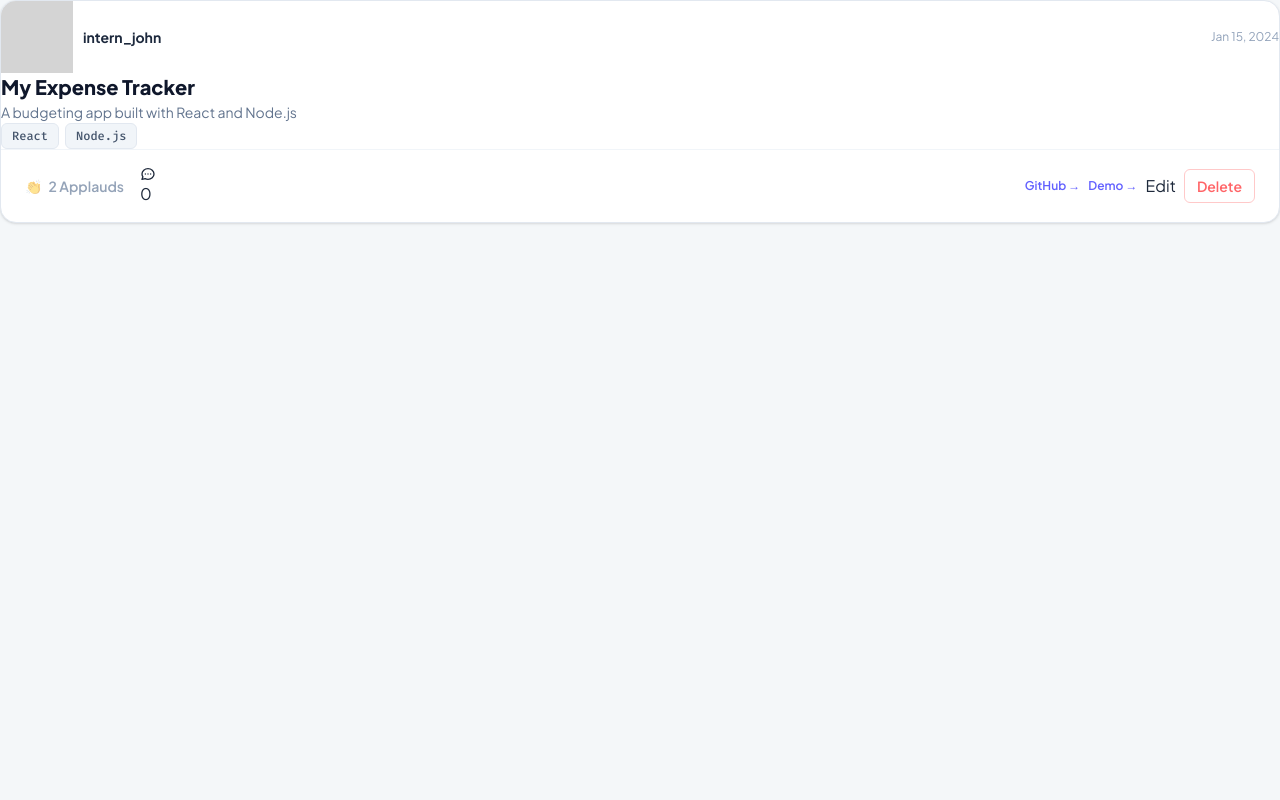
it: PostCard — owner actions › shows confirmation modal when Delete is clicked
Click the button "Delete" at (1219, 186), box [1184,169,1255,203]
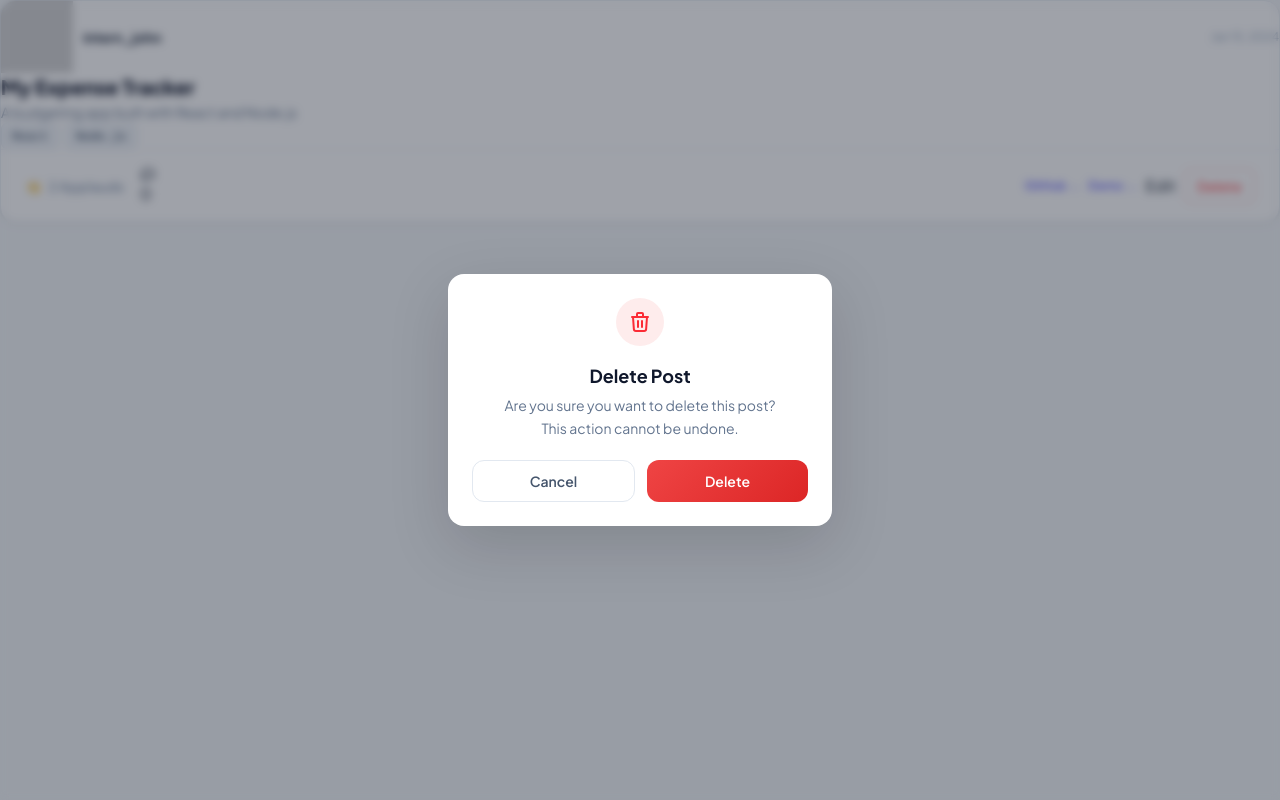
Expected: the text "Are you sure" is shown, [504,396,776,414]
